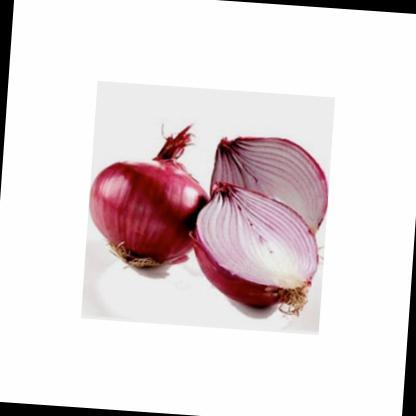onion: (83, 106, 224, 296)
